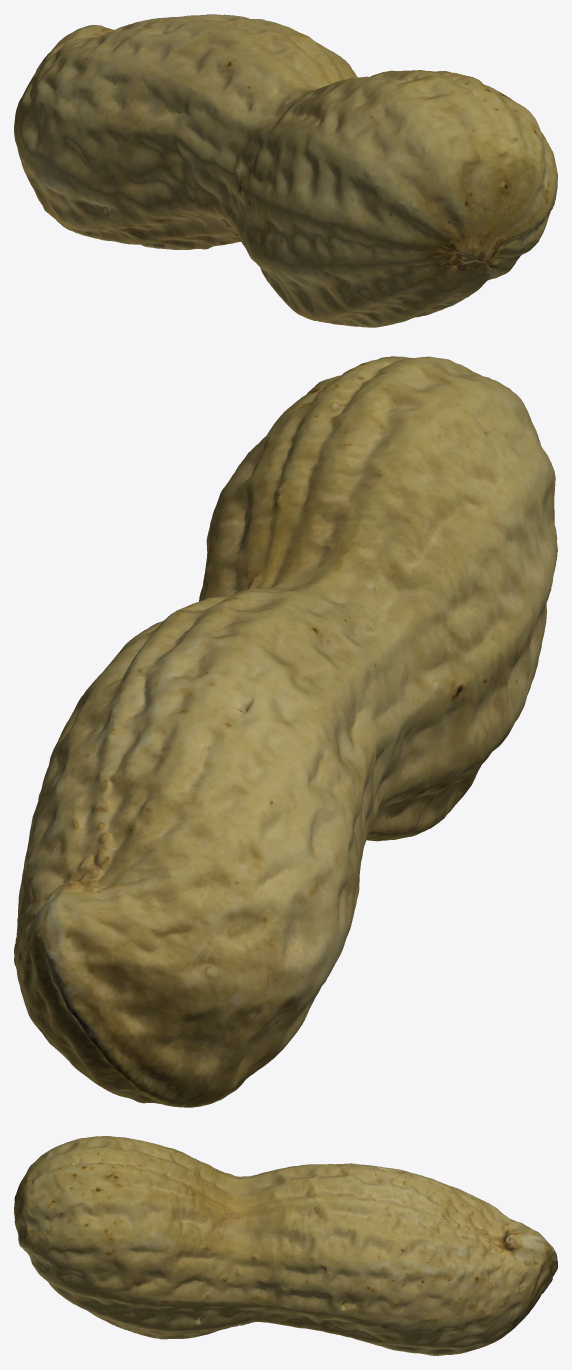
The model's file is peanut.glb.
The picture shows the model from 3 angles, top to bottom: view 1: azimuth 30°, elevation 25°; view 2: azimuth 150°, elevation 25°; view 3: azimuth 270°, elevation 25°; orthographic projection. The views are drawn at different scales.
Parts seen in each view (by area): view 1: Model_material0_0; view 2: Model_material0_0; view 3: Model_material0_0.
Part boxes in pixels (x1,y1,x2,y2): Model_material0_0: (14,14,557,327); Model_material0_0: (14,356,557,1107); Model_material0_0: (14,1136,557,1355).
Size of the model in its own units: 0.6863 by 0.7383 by 1.59.
1 material, 1 textured.
